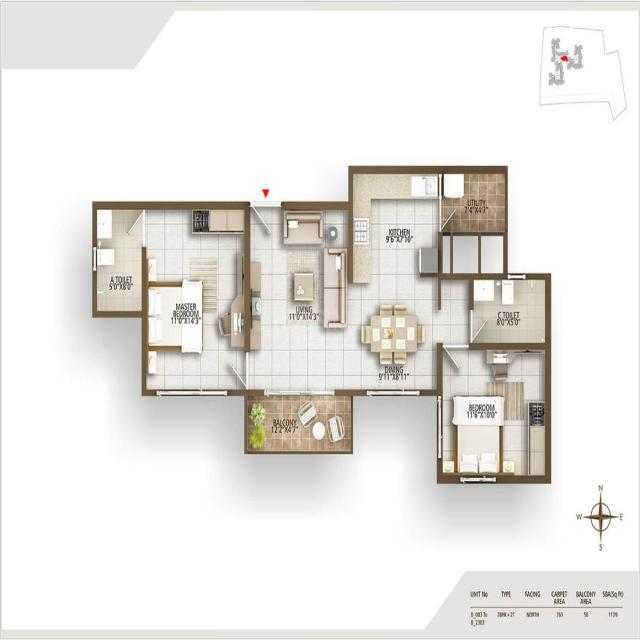Balcony-Sitout: (248, 396, 351, 450)
Bedroom: (443, 346, 545, 476)
Bedroom with Toilet: (94, 204, 247, 393)
Dining: (354, 299, 430, 375)
Enterance-Foyer: (247, 189, 283, 242)
Kitchen: (354, 175, 437, 283)
Living: (250, 205, 348, 389)
Toilet: (97, 209, 142, 312), (474, 278, 546, 342)
Utility: (442, 174, 505, 275)
